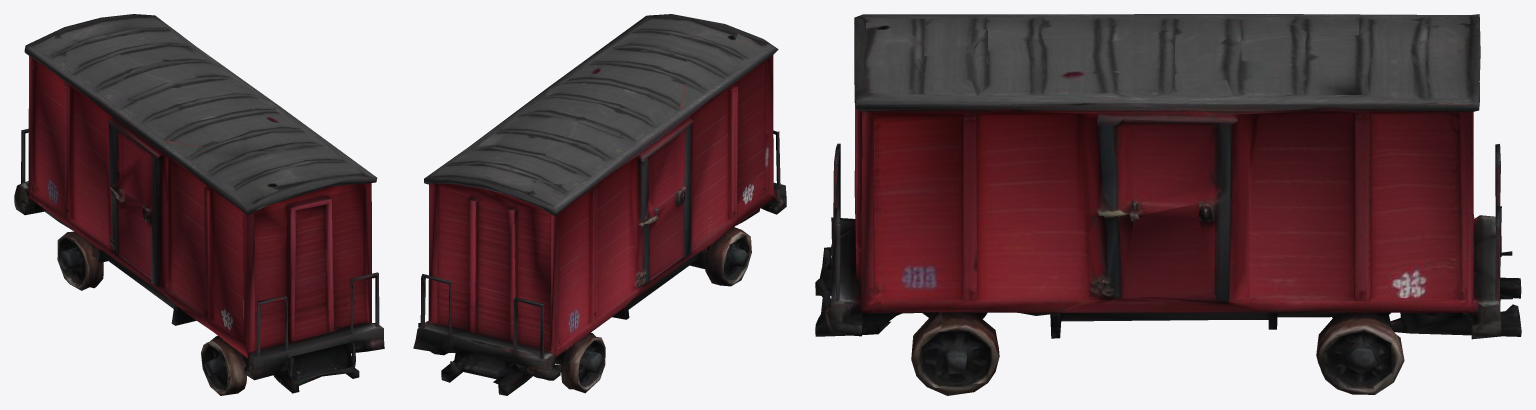
Rendered from boxcar.glb.
3 views of the same model, side by side, from view 1: azimuth 30°, elevation 25°; view 2: azimuth 150°, elevation 25°; view 3: azimuth 270°, elevation 25° (orthographic). The views are drawn at different scales.
Parts seen in each view (by area): view 1: geometry_0; view 2: geometry_0; view 3: geometry_0.
Part boxes in pixels (x1,y1,x2,y2): geometry_0: [14, 14, 384, 395]; geometry_0: [413, 14, 786, 395]; geometry_0: [815, 14, 1521, 395].
Size of the model in its own units: 2.87 by 4.42 by 8.99.
1 material, 1 textured.
